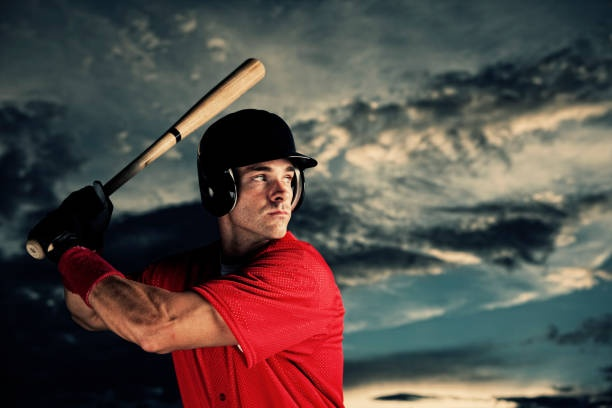bita: (77, 57, 263, 217)
